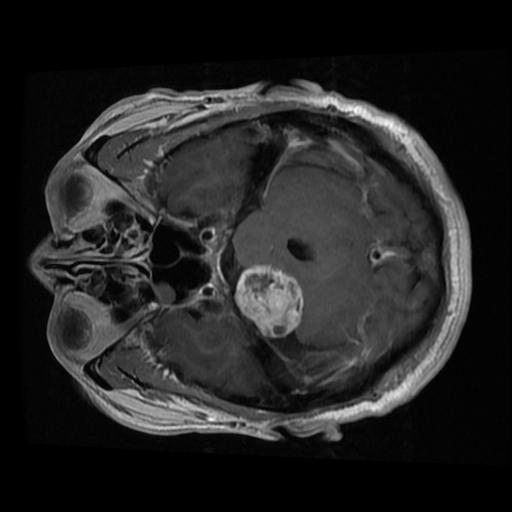meningioma: (233, 265, 301, 337)
